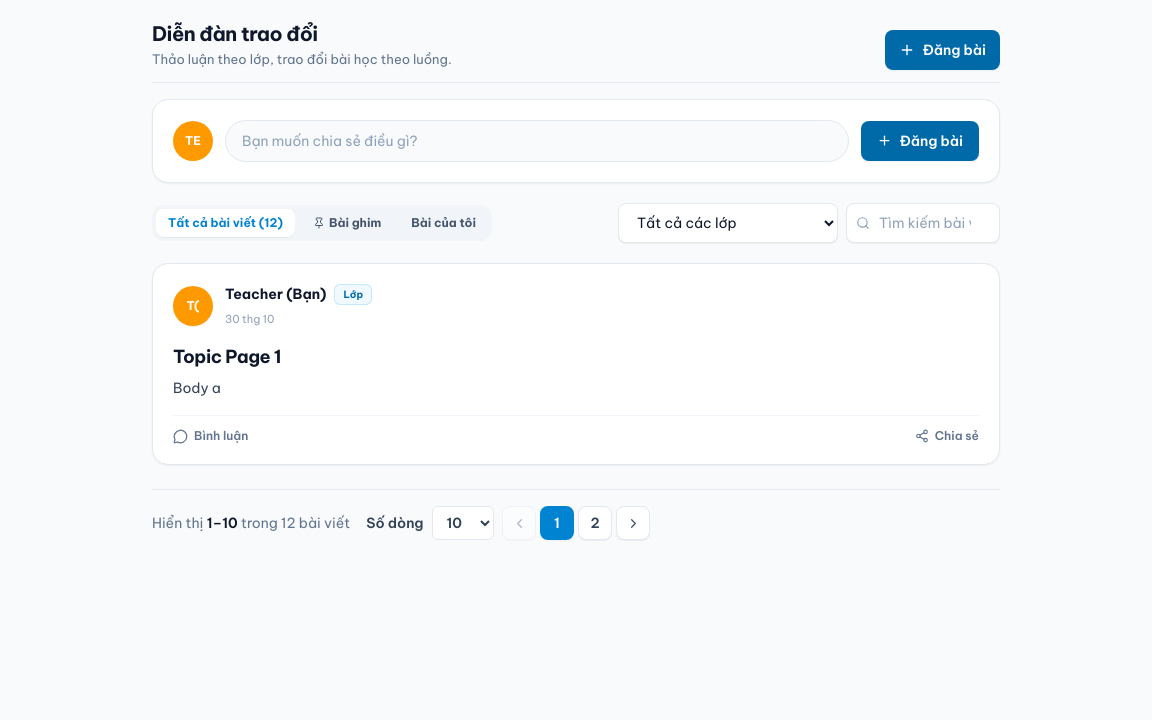
Scenario: ForumPage topic request lifecycle › chuyển trang danh sách chủ đề và phân trang bình luận gốc từ API
Check: the heading "Topic Page 1" is shown, box left=173, top=344, right=281, bottom=368
Click the button named "Trang sau". click: [633, 523]
box: left=616, top=506, right=650, bottom=540
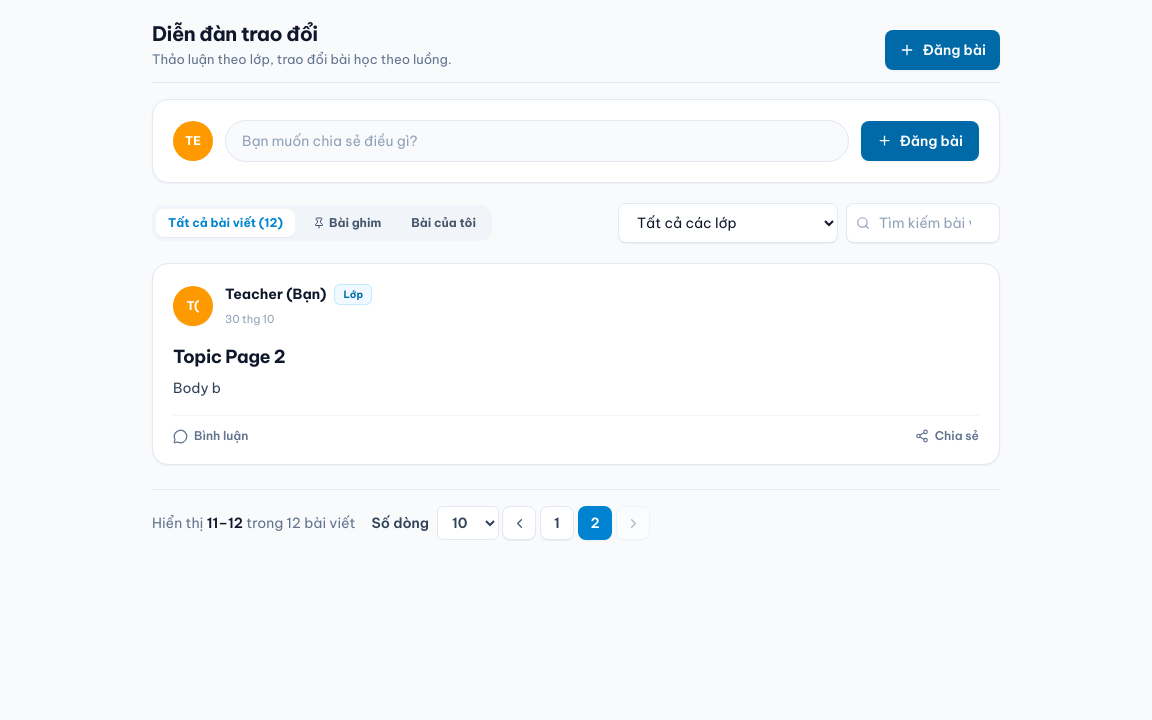
Check: the heading "Topic Page 2" is shown, box left=173, top=344, right=285, bottom=368
Click the button named "Trang trước". click: [519, 523]
box: left=502, top=506, right=536, bottom=540
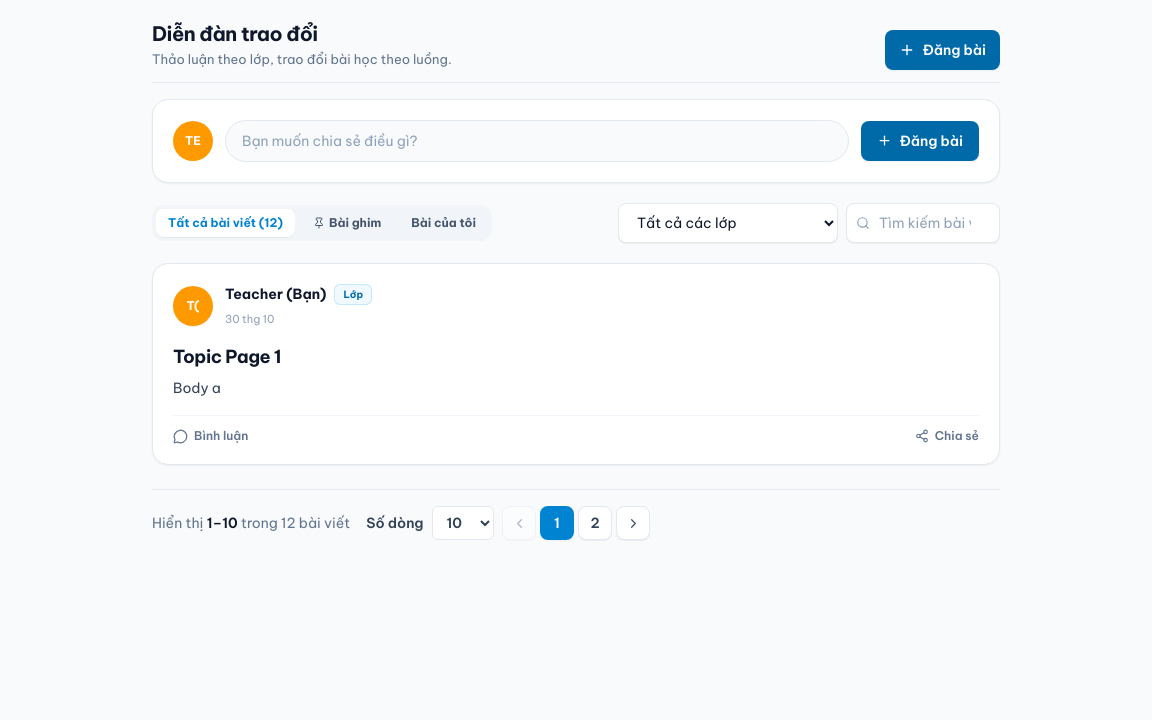
Click the heading "Topic Page 1". click: [227, 356]
box: left=173, top=344, right=281, bottom=368
(page scrolled)
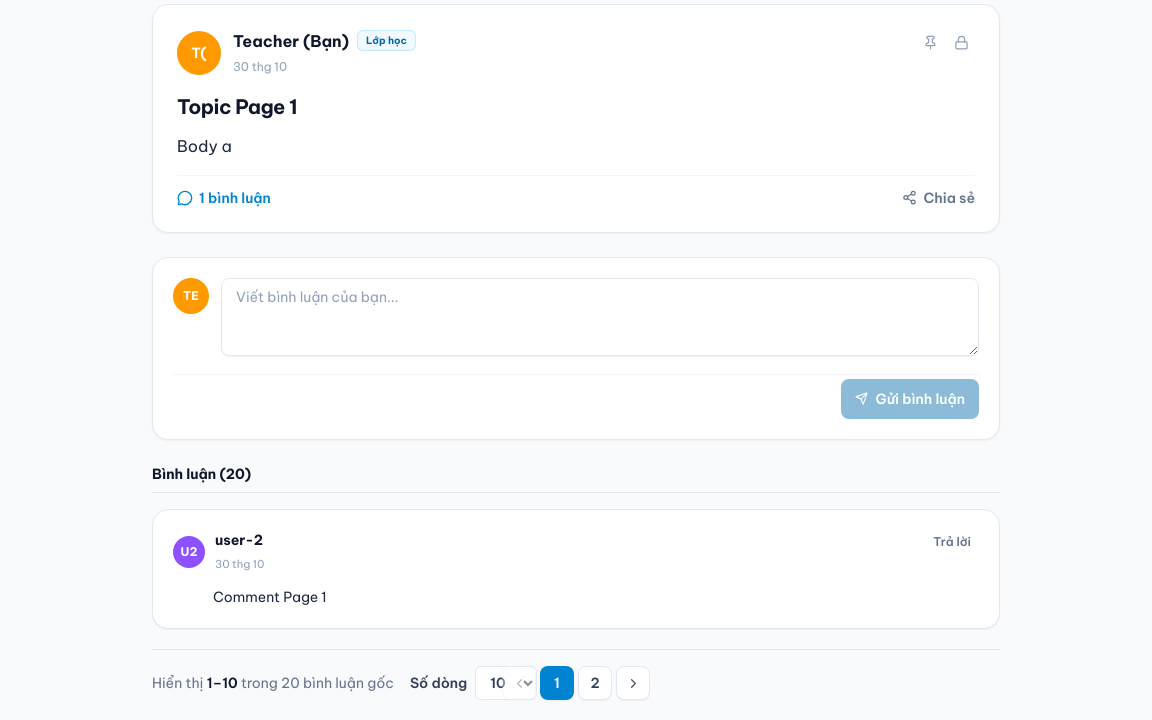
Check: the text "Comment Page 1" is shown, box left=213, top=588, right=327, bottom=606
Click the button named "Trang sau". click: [633, 683]
box: left=616, top=666, right=650, bottom=700
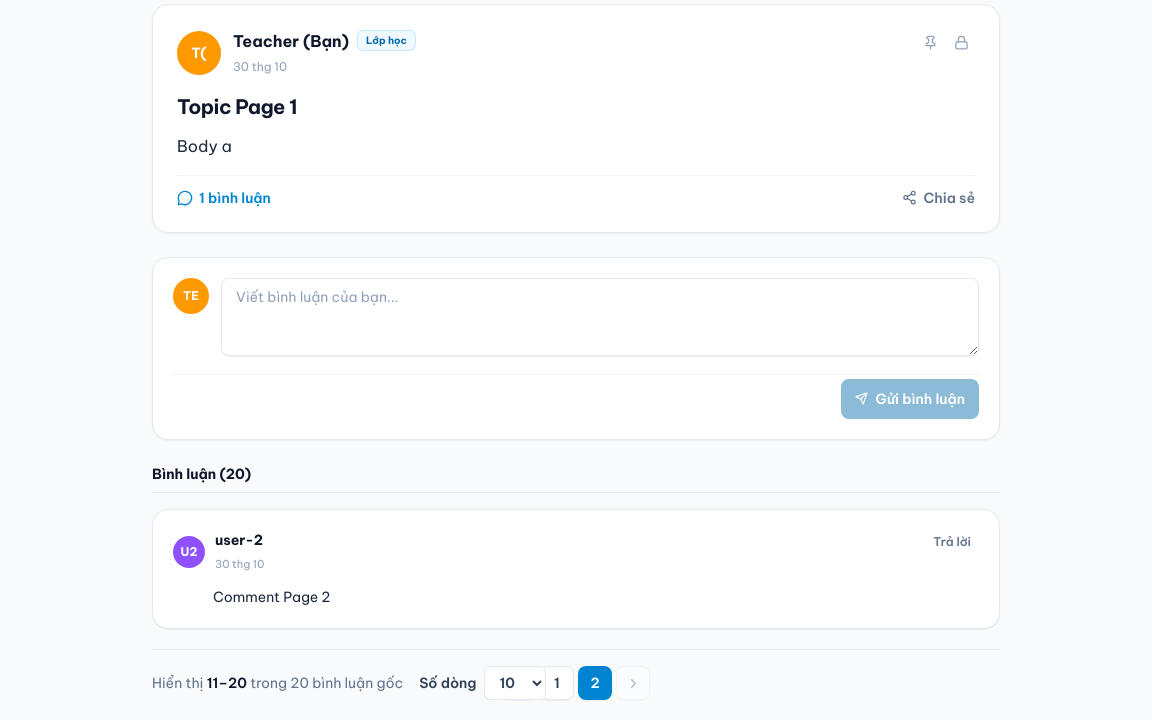
Check: the text "Comment Page 2" is shown, box left=213, top=588, right=330, bottom=606
